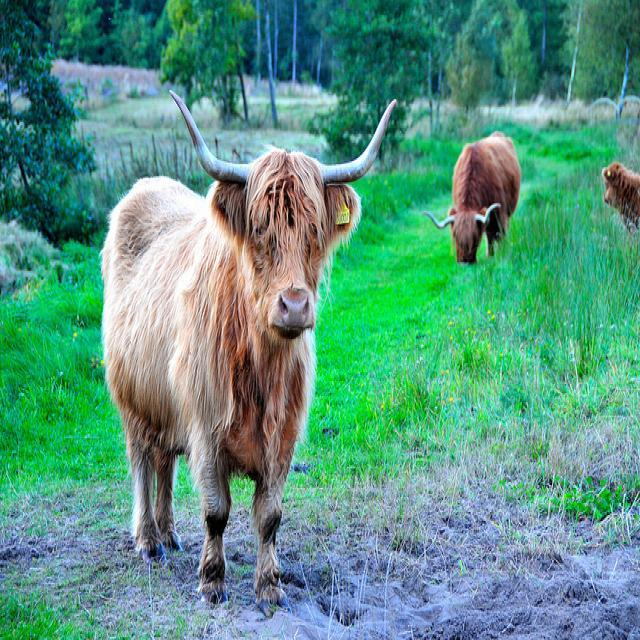cow: (100, 89, 394, 608), (421, 125, 521, 264)
